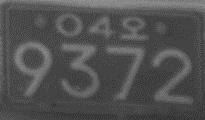0: (54, 12, 83, 37)
2: (151, 46, 193, 105)
3: (58, 42, 100, 99)
4: (87, 15, 115, 40)
7: (105, 44, 145, 101)
9: (14, 40, 52, 98)
오: (120, 15, 149, 41)
